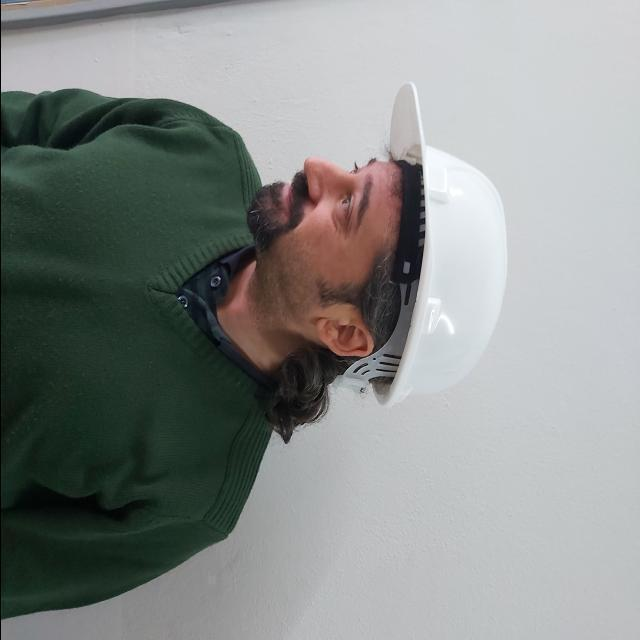helmet: (345, 82, 508, 404)
